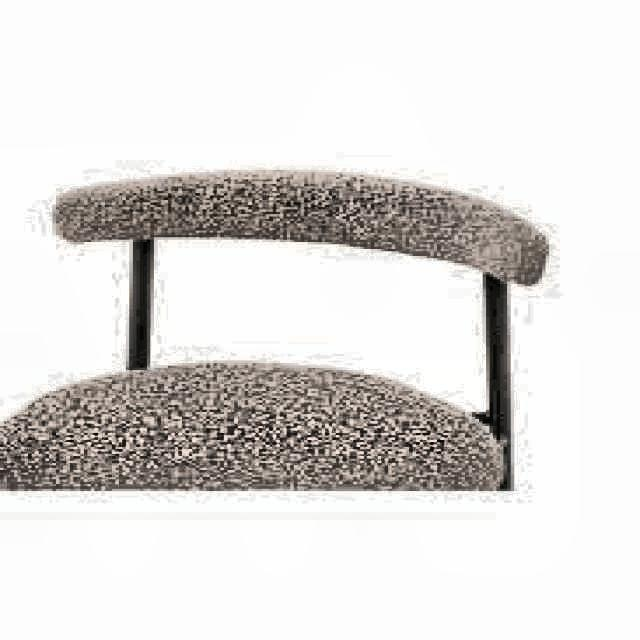cadeira: (1, 166, 548, 498)
